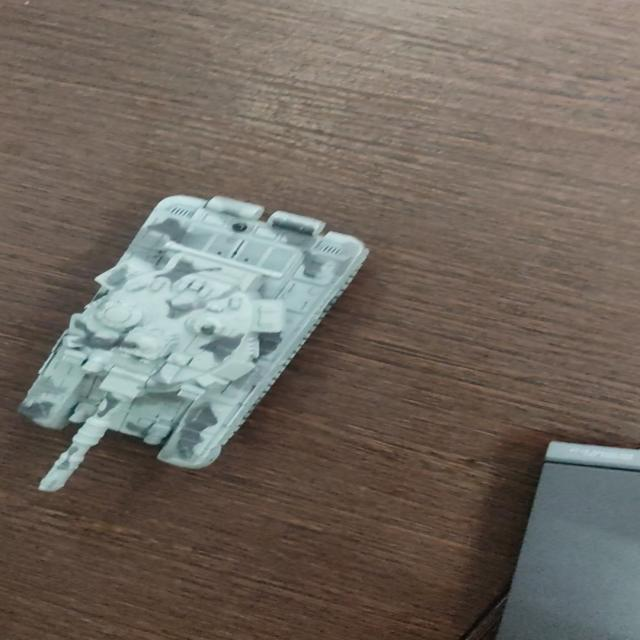tank: (4, 180, 383, 499)
